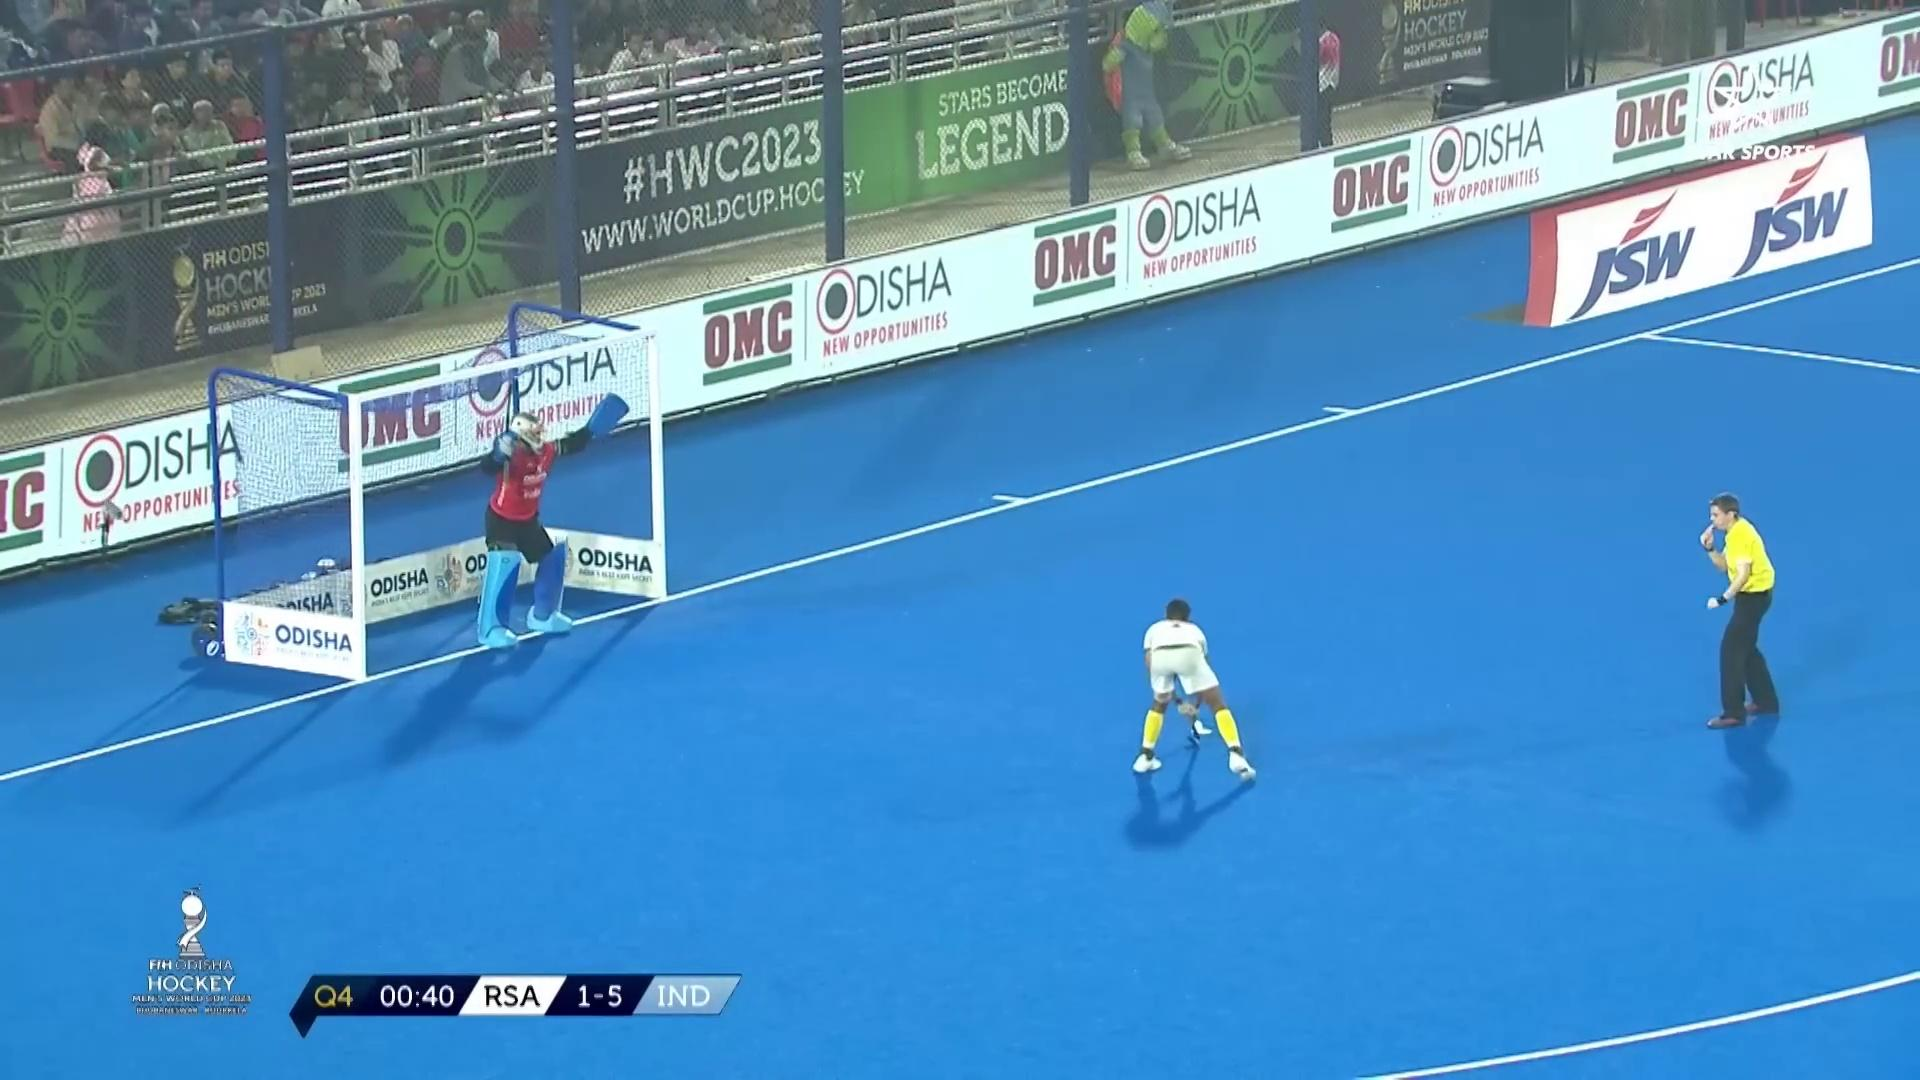ball: (1192, 711, 1218, 749)
